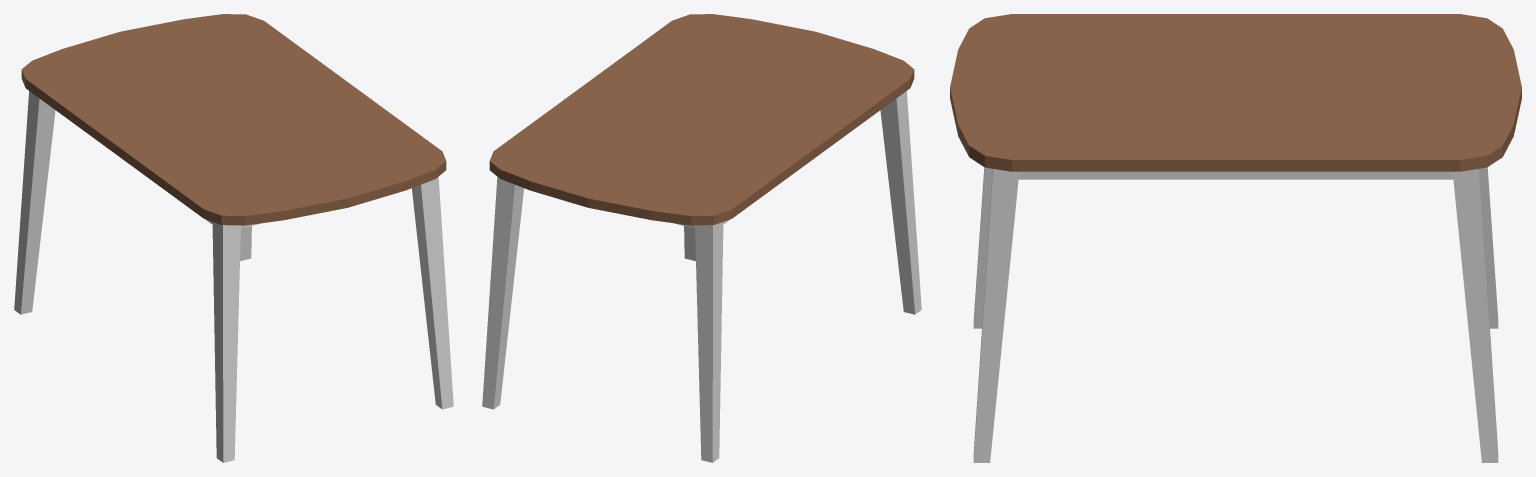
Rendered from Table_04_C3.fbx.
3 views of the same model, side by side, from view 1: azimuth 30°, elevation 25°; view 2: azimuth 150°, elevation 25°; view 3: azimuth 270°, elevation 25° (orthographic). The views are drawn at different scales.
Visible parts, largest first — view 1: Table_04_C3; view 2: Table_04_C3; view 3: Table_04_C3.
Part boxes in pixels (bbox=[...]): Table_04_C3: bbox=[14, 14, 453, 462]; Table_04_C3: bbox=[482, 14, 921, 462]; Table_04_C3: bbox=[950, 14, 1521, 462].
Size of the model in its own units: 80 by 78 by 132.
